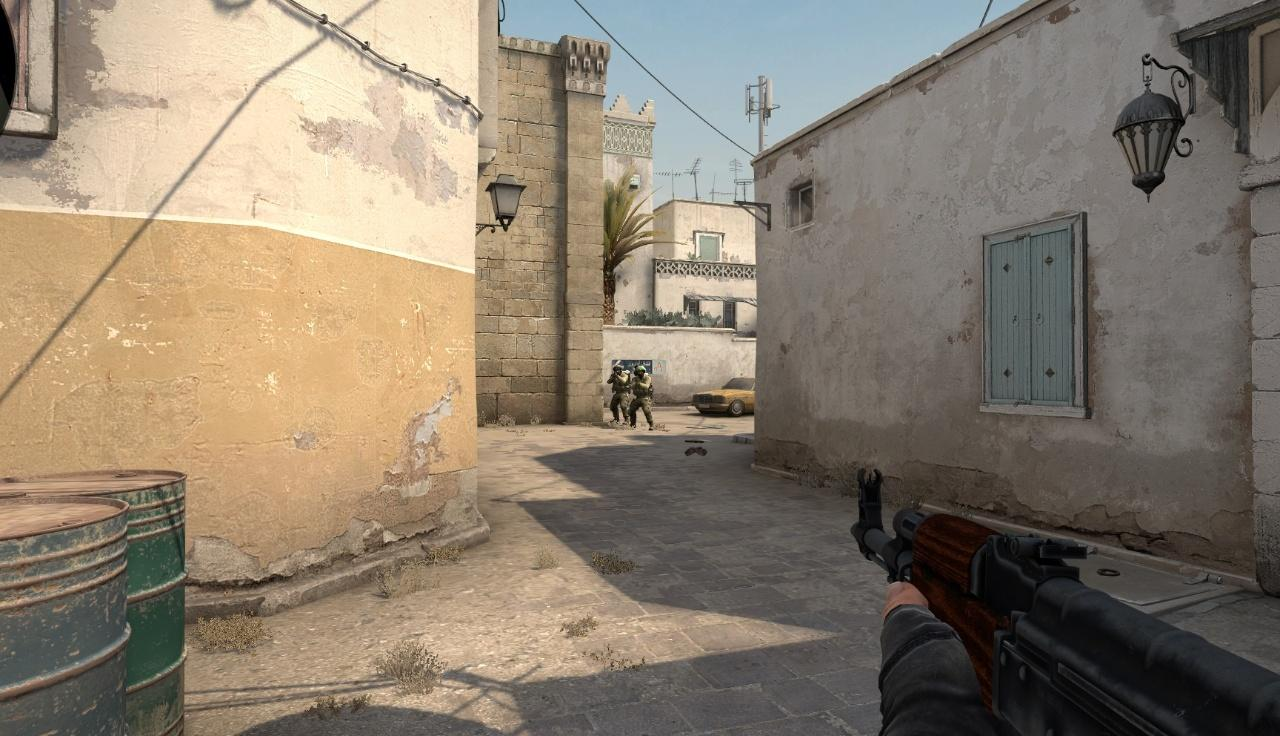ct: (629, 366, 653, 430), (607, 365, 629, 426)
cthead: (636, 366, 644, 379), (613, 365, 622, 375)
rifle: (852, 467, 1280, 736)
